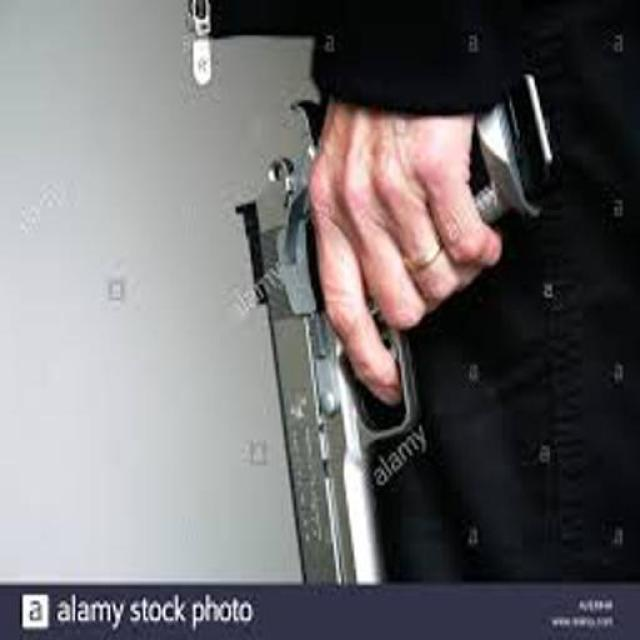pistol: (242, 67, 561, 577)
